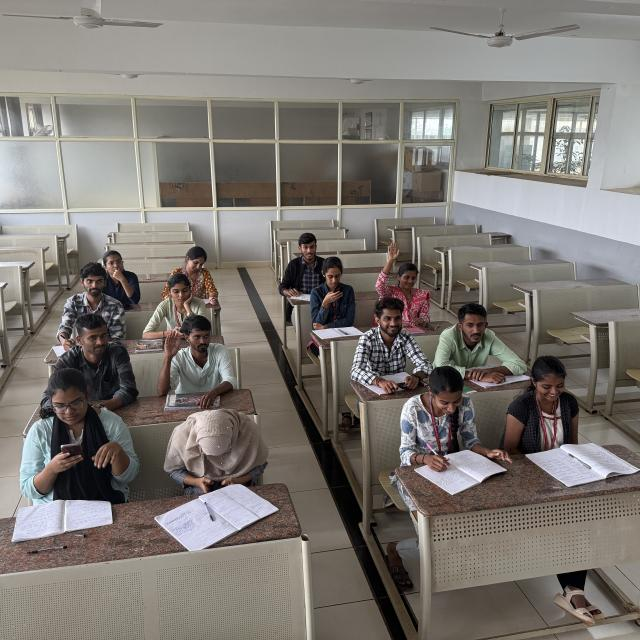Hand Rising: (153, 318, 250, 396), (372, 237, 443, 320)
Reading: (509, 361, 625, 470), (404, 372, 499, 485), (169, 249, 245, 306)
Using Phone: (17, 376, 149, 496), (169, 414, 273, 488), (140, 280, 212, 334), (316, 257, 361, 320)
Writing: (46, 265, 110, 350)
